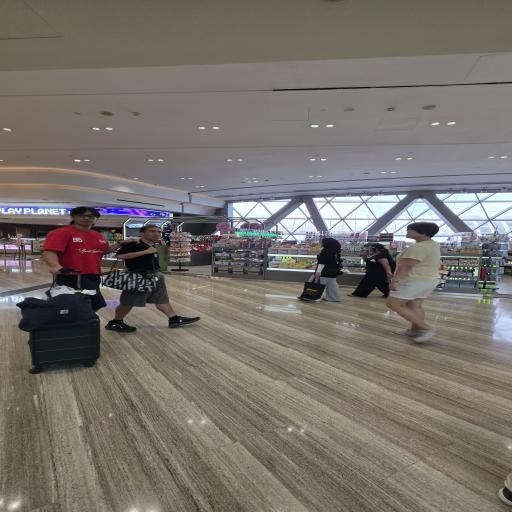person_left: (390, 223, 449, 346), (298, 229, 346, 303), (353, 240, 394, 298)
person_right: (94, 216, 213, 332)
person_with_luggage_right: (23, 204, 119, 376)
